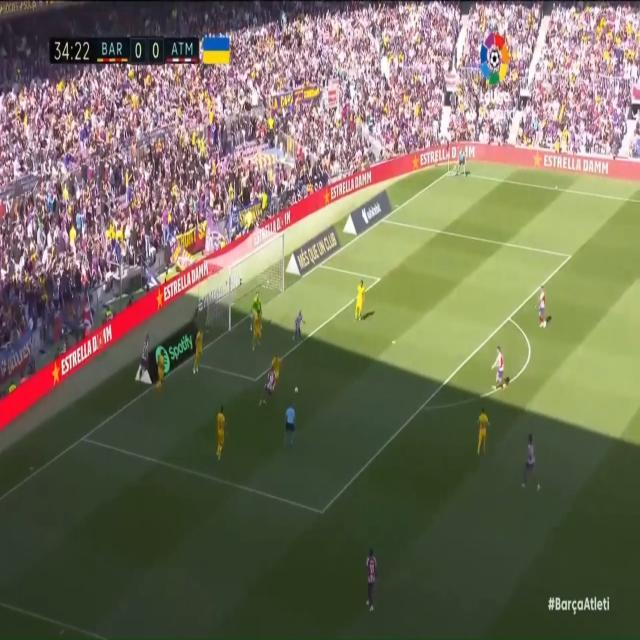ball: (294, 383, 300, 398)
goalkeeper: (248, 281, 264, 332)
player: (357, 539, 382, 628), (517, 421, 541, 499), (208, 397, 226, 472), (468, 400, 490, 455), (261, 352, 280, 412), (190, 318, 208, 380), (289, 306, 310, 359), (534, 277, 551, 341), (350, 275, 368, 332), (249, 308, 266, 368), (273, 340, 289, 400), (157, 339, 173, 395), (490, 341, 506, 393), (139, 318, 152, 378)
referee: (278, 401, 299, 457), (453, 140, 469, 179)
